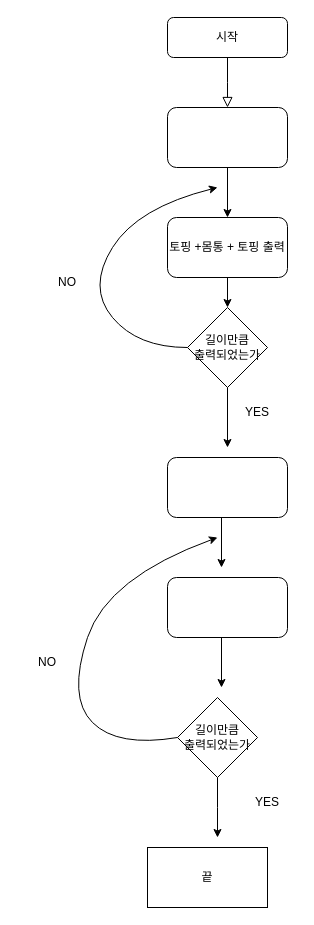
The diagram is 314 pixels wide and 925 high, and some of its shapes have lost their labels. The centre of each missing label's shape, as x and y in pixels:
길이 / 몸통 / 토핑 / 막대 길이 입력받기: (x=227, y=137)
길이의 절반만큼 막대기 앞 blank 변수 설정하기: (x=227, y=487)
막대 길이만큼 막대 출력: (x=227, y=607)
